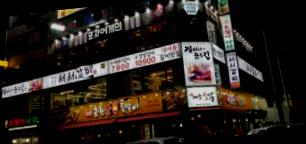galbi: (124, 97, 142, 116), (74, 65, 94, 80)
